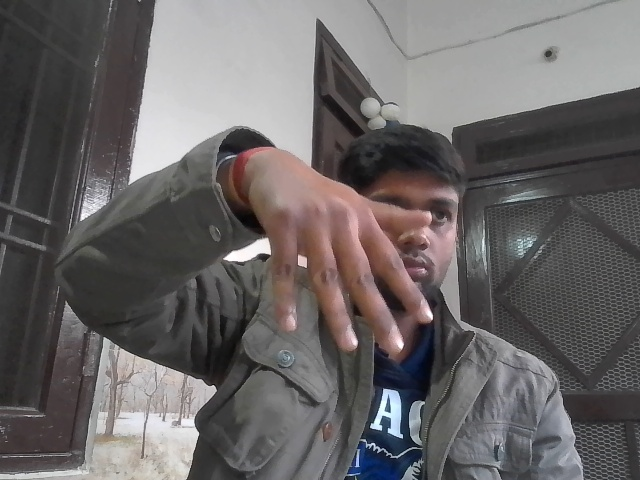HowAreYou: (227, 139, 445, 380)
